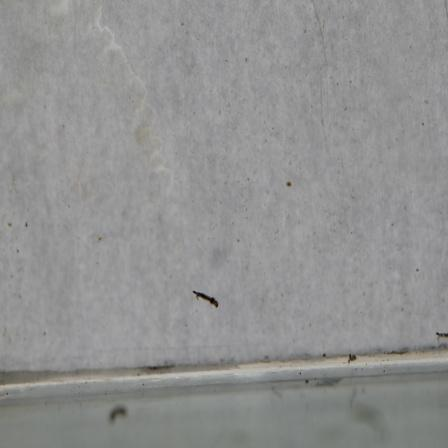Jentik-Nyamuk: (188, 285, 224, 311)
